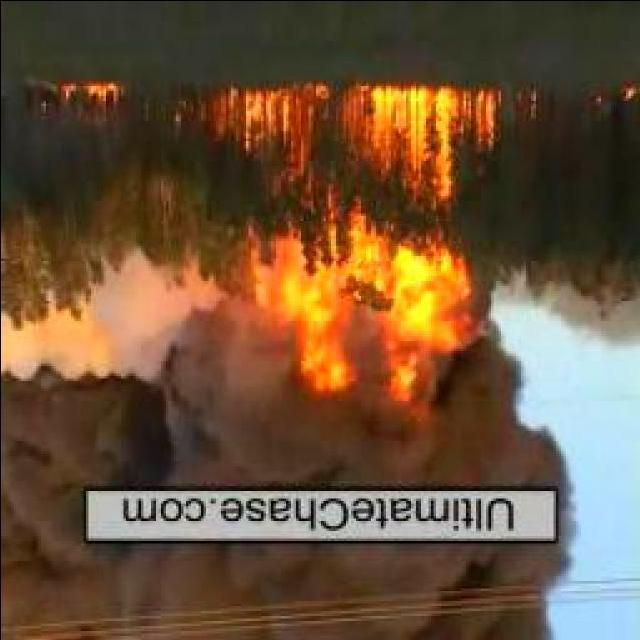Fire: (208, 86, 503, 418), (40, 82, 133, 122)
